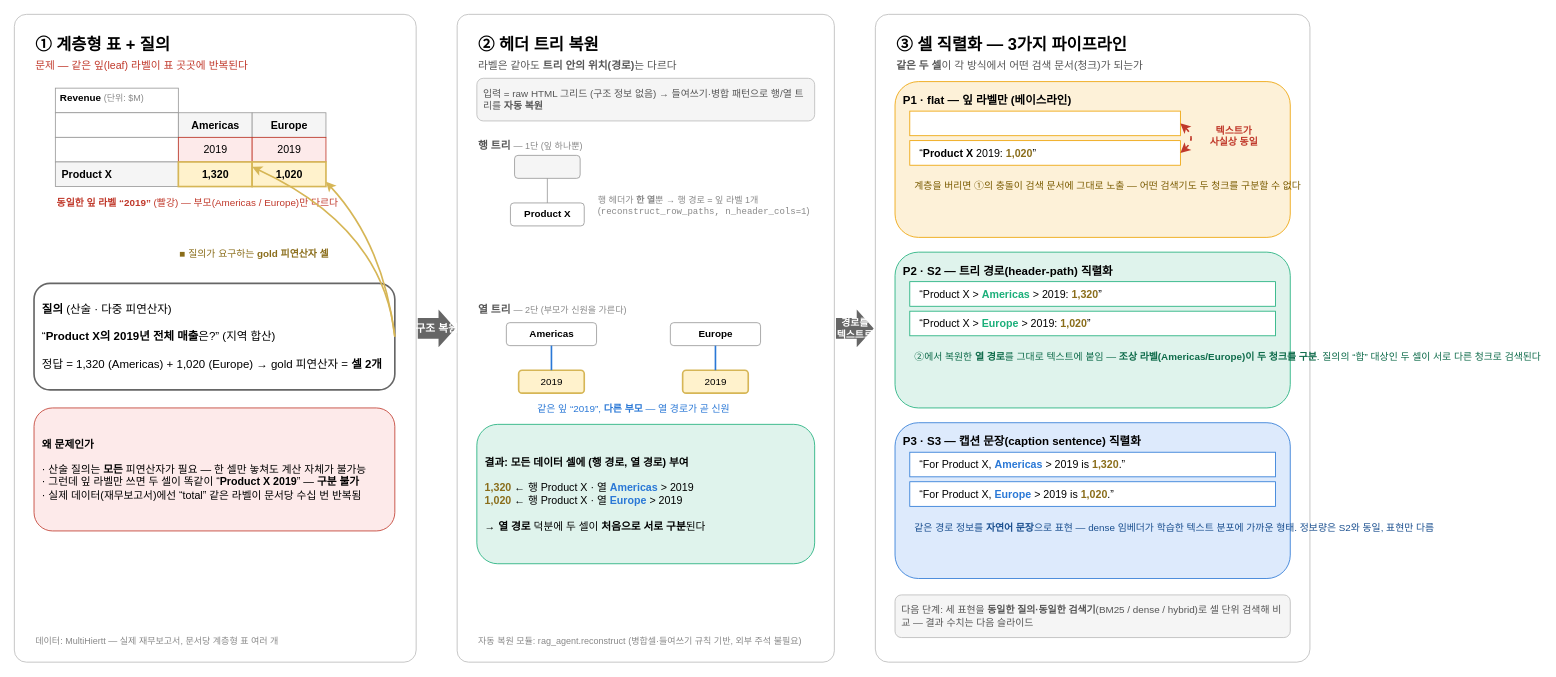
Image size: 1556x677. Some labels were removed from this diagram. Here are the shapes that lost their labels. From the top down, the centre of each, then its label:
At point (1044, 123): "“ Product X 2019: 1,320 ”".
At point (547, 166): "ROOT".
